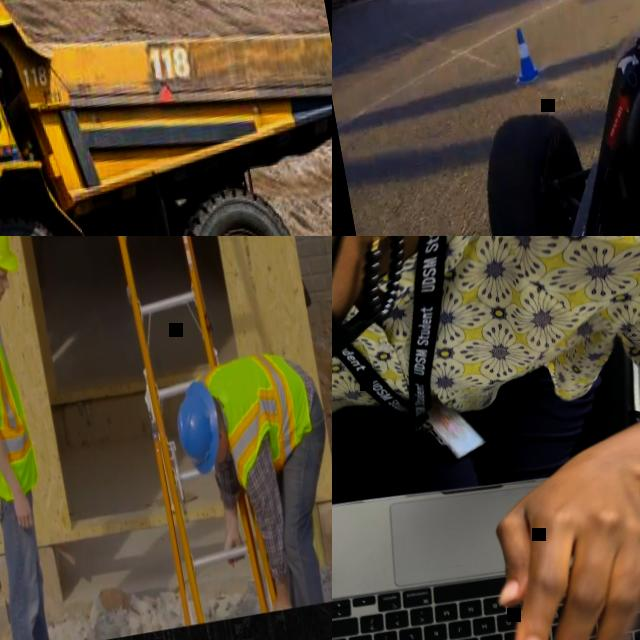Hardhat: (170, 377, 228, 477)
Mask: (332, 236, 410, 426)
NO-Mask: (217, 442, 229, 464), (0, 277, 7, 301)
NO-Safety Vest: (332, 236, 622, 447)
Person: (332, 236, 640, 640), (168, 340, 332, 619), (0, 236, 75, 640)
Safety Cone: (503, 21, 543, 91)
Safety Vest: (204, 345, 320, 494), (0, 277, 41, 503)
vehicle: (0, 0, 332, 236), (427, 0, 640, 236)
